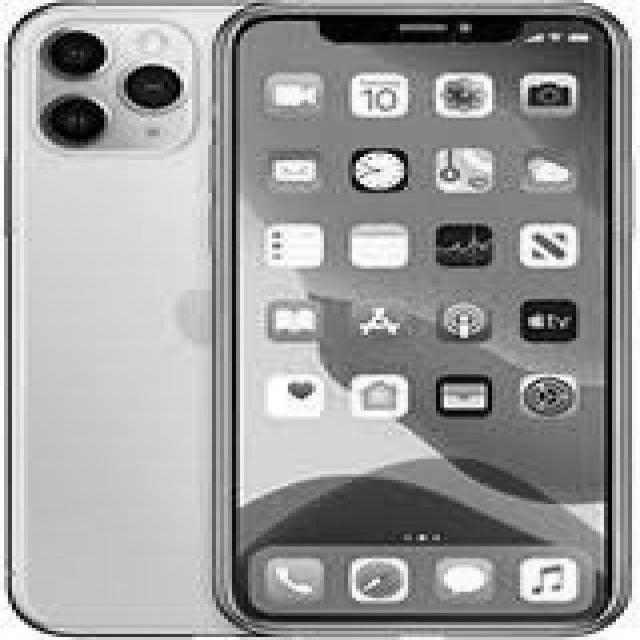fake: (207, 3, 634, 634)
